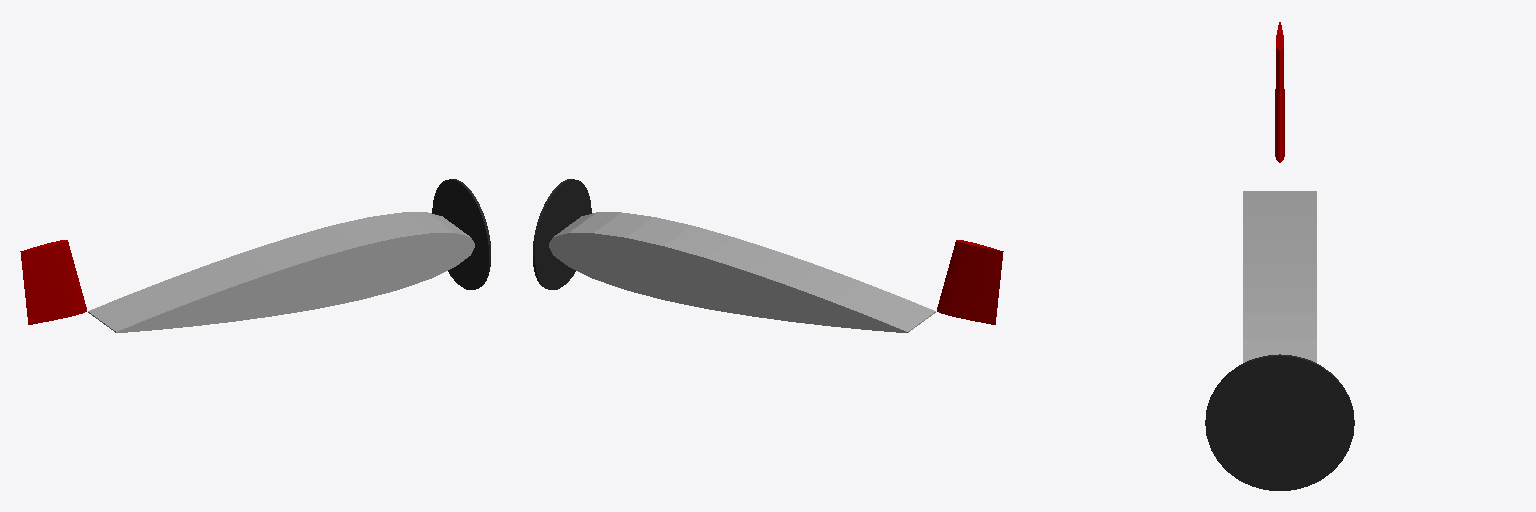
URDF robot description (drone_param):
<?xml version='1.0' encoding='utf-8'?>
<robot name="drone_param">
  <material name="grey">
    <color rgba="0.7 0.7 0.7 1" />
    </material>
  <material name="red">
    <color rgba="0.7 0 0 1" />
    </material>
  <material name="black">
    <color rgba="0.2 0.2 0.2 1" />
    </material>
  <link name="root_link">
    <inertial>
      <origin xyz="0 0 0" rpy="0 0 0" />
      <mass value="0" />
      <inertia ixx="0" ixy="0" ixz="0" iyy="0" iyz="0" izz="0" />
      </inertial>
    </link>
  <link name="fuselage">
    <inertial>
      <origin xyz="-0.275 0 -0.04" rpy="0 0 0" />
      <mass value="0.502478" />
      <inertia ixx="0.0136643" ixy="0" ixz="0" iyy="0.0136398" iyz="0" izz="0.000527007" />
      </inertial>
    <collision name="fuselage_collision_0">
      <origin xyz="-0.365 0 0.00245565348607" rpy="-1.5898372930676048 6.123233995736766e-17 -1.5707963267948968" />
      <geometry>
        <box size="0.025 0.0261920094864 0.1825" />
        </geometry>
      </collision>
    <visual name="fuselage_visual_0">
      <origin xyz="0 0 0" rpy="0 0 0" />
      <geometry>
        <mesh filename="package://meshes/fuselage_only.stl" scale="0.000973482 0.001 0.001" />
        </geometry>
      <material name="grey" />
      </visual>
    </link>
  <joint name="fixed_joint_base_fuselage" type="fixed">
    <parent link="root_link" />
    <child link="fuselage" />
    <origin xyz="0 0 0" rpy="3.141592653589793 0 0" />
    </joint>
  <joint name="fixed_joint_aero_frame_fuselage" type="fixed">
    <parent link="fuselage" />
    <child link="aero_frame_fuselage" />
    <origin xyz="-0.275 0 -0.03" rpy="0 3.141592653589793 0" />
    </joint>
  <link name="aero_frame_fuselage">
    <inertial>
      <origin xyz="0 0 0" rpy="0 0 0" />
      <mass value="0" />
      <inertia ixx="0" ixy="0" ixz="0" iyy="0" iyz="0" izz="0" />
      </inertial>
    </link>
  <joint name="fixed_joint_prop_frame_fuselage_0" type="fixed">
    <parent link="fuselage" />
    <child link="prop_frame_fuselage_0" />
    <origin xyz="0 0 0" rpy="3.141592653589793 -1.5707963267948966 0" />
    </joint>
  <link name="prop_frame_fuselage_0">
    <inertial>
      <origin xyz="0 0 0" rpy="0 0 0" />
      <mass value="0.0314159" />
      <inertia ixx="6.28711e-05" ixy="0" ixz="0" iyy="6.28711e-05" iyz="0" izz="0.000125664" />
      </inertial>
    <visual name="prop_frame_fuselage_0_visual_0">
      <origin xyz="0 0 0" rpy="0 0 0" />
      <geometry>
        <cylinder radius="0.1" length="0.005" />
        </geometry>
      <material name="black" />
      </visual>
    <collision name="prop_frame_collision">
      <origin xyz="0 0 0" rpy="0 0 0" />
      <geometry>
        <box size="0.2 0.2 0.02" />
        </geometry>
      </collision>
    </link>
  <joint name="fixed_joint_right_wing" type="fixed">
    <parent link="fuselage" />
    <child link="fuselage_right_0" />
    <origin xyz="-0.275 0.05 -0.03" rpy="0 0 3.141592653589793" />
    </joint>
  <link name="fuselage_right_0">
    <inertial>
      <origin xyz="0 0 0" rpy="0 0 0" />
      <mass value="0.1" />
      <inertia ixx="3.22642e-06" ixy="0" ixz="0" iyy="3.22642e-06" iyz="0" izz="3.22642e-06" />
      </inertial>
    </link>
  <link name="fuselage_right_1">
    <inertial>
      <origin xyz="0 0 0" rpy="0 0 0" />
      <mass value="0.1" />
      <inertia ixx="3.22642e-06" ixy="0" ixz="0" iyy="3.22642e-06" iyz="0" izz="3.22642e-06" />
      </inertial>
    </link>
  <joint name="joint_0_sweep_right_wing" type="revolute">
    <parent link="fuselage_right_0" />
    <child link="fuselage_right_1" />
    <origin xyz="0 0 0" rpy="0 0 0" />
    <axis xyz="0 0 1" />
    <limit lower="-0.35" upper="0.35" effort="2.5" velocity="3.665191429" />
    <dynamics damping="0.2" friction="0.05" />
    </joint>
  <joint name="joint_1_twist_right_wing" type="revolute">
    <parent link="fuselage_right_1" />
    <child link="right_wing" />
    <origin xyz="0 -0.05 0" rpy="0 0 0" />
    <axis xyz="0 1 0" />
    <limit lower="-0.35" upper="0.35" effort="1.5" velocity="3.665191429" />
    <dynamics damping="0.2" friction="0.05" />
    </joint>
  <link name="right_wing">
    <inertial>
      <origin xyz="0 0 0" rpy="0 0 0" />
      <mass value="0" />
      <inertia ixx="0" ixy="0" ixz="0" iyy="0" iyz="0" izz="0" />
      </inertial>
    <visual name="right_wing_visual">
      <origin xyz="0 0 0" rpy="0 0 0" />
      <geometry>
        <mesh filename="package://meshes/wing0009.stl" scale="0.2 0.700041 0.2" />
        </geometry>
      <material name="red" />
      </visual>
    </link>
  <joint name="fixed_joint_right_wing_prop" type="fixed">
    <parent link="right_wing" />
    <child link="right_wing_prop" />
    <origin xyz="0 -0.025 0" rpy="0 0 0" />
    </joint>
  <link name="right_wing_prop">
    <inertial>
      <origin xyz="0.034 0 0" rpy="0 0 0" />
      <mass value="0.00423909" />
      <inertia ixx="9.00806e-06" ixy="0" ixz="0" iyy="5.98271e-07" iyz="0" izz="8.54656e-06" />
      </inertial>
    <collision name="right_wing_prop_collision">
      <origin xyz="0.05 0 -0.000421042" rpy="1.570796327 -1.558922022 0" />
      <geometry>
        <box size="0.017962225 0.2 0.05" />
        </geometry>
      </collision>
    </link>
  <joint name="fixed_joint_aero_frame_right_wing_prop" type="fixed">
    <parent link="right_wing_prop" />
    <child link="aero_frame_right_wing_prop" />
    <origin xyz="0.034 0 0" rpy="3.141592654 0 0" />
    </joint>
  <link name="aero_frame_right_wing_prop">
    <inertial>
      <origin xyz="0 0 0" rpy="0 0 0" />
      <mass value="0" />
      <inertia ixx="0" ixy="0" ixz="0" iyy="0" iyz="0" izz="0" />
      </inertial>
    </link>
  <joint name="fixed_joint_right_wing_free" type="fixed">
    <parent link="right_wing" />
    <child link="right_wing_free" />
    <origin xyz="0 -0.375 0" rpy="0 0 0" />
    </joint>
  <link name="right_wing_free">
    <inertial>
      <origin xyz="0.034 0 0" rpy="0 0 0" />
      <mass value="0.0551081" />
      <inertia ixx="0.00127437" ixy="0" ixz="0" iyy="0.00116505" iyz="0" izz="0.000111105" />
      </inertial>
    <collision name="right_wing_free_collision">
      <origin xyz="0.05 0 -0.000421042" rpy="1.570796327 -1.558922022 0" />
      <geometry>
        <box size="0.017962225 0.2 0.65" />
        </geometry>
      </collision>
    </link>
  <joint name="fixed_joint_aero_frame_right_wing_free" type="fixed">
    <parent link="right_wing_free" />
    <child link="aero_frame_right_wing_free" />
    <origin xyz="0.034 0 0" rpy="3.141592654 0 0" />
    </joint>
  <link name="aero_frame_right_wing_free">
    <inertial>
      <origin xyz="0 0 0" rpy="0 0 0" />
      <mass value="0" />
      <inertia ixx="0" ixy="0" ixz="0" iyy="0" iyz="0" izz="0" />
      </inertial>
    </link>
  <joint name="fixed_joint_left_wing" type="fixed">
    <parent link="fuselage" />
    <child link="fuselage_left_0" />
    <origin xyz="-0.275 -0.05 -0.03" rpy="-0 0 3.141592653589793" />
    </joint>
  <link name="fuselage_left_0">
    <inertial>
      <origin xyz="0 0 0" rpy="0 0 0" />
      <mass value="0.1" />
      <inertia ixx="3.22642e-06" ixy="0" ixz="0" iyy="3.22642e-06" iyz="0" izz="3.22642e-06" />
      </inertial>
    </link>
  <link name="fuselage_left_1">
    <inertial>
      <origin xyz="0 0 0" rpy="0 0 0" />
      <mass value="0.1" />
      <inertia ixx="3.22642e-06" ixy="0" ixz="0" iyy="3.22642e-06" iyz="0" izz="3.22642e-06" />
      </inertial>
    </link>
  <joint name="joint_0_sweep_left_wing" type="revolute">
    <parent link="fuselage_left_0" />
    <child link="fuselage_left_1" />
    <origin xyz="0 0 0" rpy="0 0 0" />
    <axis xyz="0 0 1" />
    <limit lower="-0.35" upper="0.35" effort="2.5" velocity="3.665191429" />
    <dynamics damping="0.2" friction="0.05" />
    </joint>
  <joint name="joint_1_twist_left_wing" type="revolute">
    <parent link="fuselage_left_1" />
    <child link="left_wing" />
    <origin xyz="0 0.05 0" rpy="0 0 0" />
    <axis xyz="0 1 0" />
    <limit lower="-0.35" upper="0.35" effort="1.5" velocity="3.665191429" />
    <dynamics damping="0.2" friction="0.05" />
    </joint>
  <link name="left_wing">
    <inertial>
      <origin xyz="0 0 0" rpy="0 0 0" />
      <mass value="0" />
      <inertia ixx="0" ixy="0" ixz="0" iyy="0" iyz="0" izz="0" />
      </inertial>
    <visual name="left_wing_visual">
      <origin xyz="0 0 0" rpy="3.141592654 0 0" />
      <geometry>
        <mesh filename="package://meshes/wing0009.stl" scale="0.2 0.700041 0.2" />
        </geometry>
      <material name="red" />
      </visual>
    </link>
  <joint name="fixed_joint_left_wing_prop" type="fixed">
    <parent link="left_wing" />
    <child link="left_wing_prop" />
    <origin xyz="0 0.025 0" rpy="0 0 0" />
    </joint>
  <link name="left_wing_prop">
    <inertial>
      <origin xyz="0.034 0 0" rpy="0 0 0" />
      <mass value="0.00423909" />
      <inertia ixx="9.00806e-06" ixy="0" ixz="0" iyy="5.98271e-07" iyz="0" izz="8.54656e-06" />
      </inertial>
    <collision name="left_wing_prop_collision">
      <origin xyz="0.05 0 -0.000421042" rpy="1.570796327 -1.558922022 0" />
      <geometry>
        <box size="0.017962225 0.2 0.05" />
        </geometry>
      </collision>
    </link>
  <joint name="fixed_joint_aero_frame_left_wing_prop" type="fixed">
    <parent link="left_wing_prop" />
    <child link="aero_frame_left_wing_prop" />
    <origin xyz="0.034 0 0" rpy="3.141592654 0 0" />
    </joint>
  <link name="aero_frame_left_wing_prop">
    <inertial>
      <origin xyz="0 0 0" rpy="0 0 0" />
      <mass value="0" />
      <inertia ixx="0" ixy="0" ixz="0" iyy="0" iyz="0" izz="0" />
      </inertial>
    </link>
  <joint name="fixed_joint_left_wing_free" type="fixed">
    <parent link="left_wing" />
    <child link="left_wing_free" />
    <origin xyz="0 0.375 0" rpy="0 0 0" />
    </joint>
  <link name="left_wing_free">
    <inertial>
      <origin xyz="0.034 0 0" rpy="0 0 0" />
      <mass value="0.0551081" />
      <inertia ixx="0.00127437" ixy="0" ixz="0" iyy="0.00116505" iyz="0" izz="0.000111105" />
      </inertial>
    <collision name="left_wing_free_collision">
      <origin xyz="0.05 0 -0.000421042" rpy="1.570796327 -1.558922022 0" />
      <geometry>
        <box size="0.017962225 0.2 0.65" />
        </geometry>
      </collision>
    </link>
  <joint name="fixed_joint_aero_frame_left_wing_free" type="fixed">
    <parent link="left_wing_free" />
    <child link="aero_frame_left_wing_free" />
    <origin xyz="0.034 0 0" rpy="3.141592654 0 0" />
    </joint>
  <link name="aero_frame_left_wing_free">
    <inertial>
      <origin xyz="0 0 0" rpy="0 0 0" />
      <mass value="0" />
      <inertia ixx="0" ixy="0" ixz="0" iyy="0" iyz="0" izz="0" />
      </inertial>
    </link>
  <joint name="elevator_pitch_joint" type="revolute">
    <parent link="fuselage" />
    <child link="elevator_hinge" />
    <origin xyz="-0.76 0 0" rpy="0 0 0" />
    <axis xyz="0 1 0" />
    <limit lower="-0.35" upper="0.35" effort="1.0" velocity="3.665191429" />
    <dynamics damping="0.2" friction="0.05" />
    </joint>
  <link name="elevator_hinge">
    <inertial>
      <origin xyz="0 0 0" rpy="0 0 0" />
      <mass value="0" />
      <inertia ixx="0" ixy="0" ixz="0" iyy="0" iyz="0" izz="0" />
      </inertial>
    <visual>
      <origin xyz="0 0 0" rpy="0 0 0" />
      <geometry>
        <mesh filename="package://meshes/elevator.stl" scale="0.0007 0.0012005 0.00099999" />
        </geometry>
      <material name="grey" />
      </visual>
    </link>
  <joint name="fixed_joint_elevator_left" type="fixed">
    <parent link="elevator_hinge" />
    <child link="elevator_left" />
    <origin xyz="0 0.09 0" rpy="0 0 0" />
    </joint>
  <link name="elevator_left">
    <inertial>
      <origin xyz="0.0434 0 0" rpy="0 0 0" />
      <mass value="0.0250102" />
      <inertia ixx="6.50266e-05" ixy="0" ixz="0" iyy="4.07464e-05" iyz="0" izz="2.47399e-05" />
      </inertial>
    <collision>
      <origin xyz="-0.035 0 -0.0226291863" rpy="1.5763749568 -1.5318707859 3.1359944429" />
      <geometry>
        <box size="0.0135567616 0.14 0.18" />
        </geometry>
      </collision>
    </link>
  <joint name="fixed_joint_aero_frame_elevator_left" type="fixed">
    <parent link="elevator_left" />
    <child link="aero_frame_elevator_left" />
    <origin xyz="-0.0434 0 0" rpy="0 3.141592654 0" />
    </joint>
  <link name="aero_frame_elevator_left">
    <inertial>
      <origin xyz="0 0 0" rpy="0 0 0" />
      <mass value="0" />
      <inertia ixx="0" ixy="0" ixz="0" iyy="0" iyz="0" izz="0" />
      </inertial>
    </link>
  <joint name="fixed_joint_elevator_right" type="fixed">
    <parent link="elevator_hinge" />
    <child link="elevator_right" />
    <origin xyz="0 -0.09 0" rpy="0 0 0" />
    </joint>
  <link name="elevator_right">
    <inertial>
      <origin xyz="0.0434 0 0" rpy="0 0 0" />
      <mass value="0.0250102" />
      <inertia ixx="6.50266e-05" ixy="0" ixz="0" iyy="4.07464e-05" iyz="0" izz="2.47399e-05" />
      </inertial>
    <collision>
      <origin xyz="-0.035 0 -0.0226291863" rpy="1.5763749568 -1.5318707859 3.1359944429" />
      <geometry>
        <box size="0.0135567616 0.14 0.18" />
        </geometry>
      </collision>
    </link>
  <joint name="fixed_joint_aero_frame_elevator_right" type="fixed">
    <parent link="elevator_right" />
    <child link="aero_frame_elevator_right" />
    <origin xyz="-0.0434 0 0" rpy="0 3.141592654 0" />
    </joint>
  <link name="aero_frame_elevator_right">
    <inertial>
      <origin xyz="0 0 0" rpy="0 0 0" />
      <mass value="0" />
      <inertia ixx="0" ixy="0" ixz="0" iyy="0" iyz="0" izz="0" />
      </inertial>
    </link>
  <joint name="rudder_yaw_joint" type="revolute">
    <parent link="elevator_hinge" />
    <child link="rudder" />
    <origin xyz="0 0 0" rpy="0 0 0" />
    <axis xyz="0 0 1" />
    <limit lower="-0.35" upper="0.35" effort="1.0" velocity="3.665191429" />
    <dynamics damping="0.2" friction="0.05" />
    </joint>
  <link name="rudder">
    <inertial>
      <origin xyz="-0.0372 0 -0.08" rpy="0 0 0" />
      <mass value="0.0169188" />
      <inertia ixx="3.38377e-05" ixy="0" ixz="0" iyy="2.18116e-05" iyz="0" izz="1.2337e-05" />
      </inertial>
    <collision name="rudder_collision_0">
      <origin xyz="-0.03 0 -0.104994470816" rpy="0.10626955814138643 0.008780081131392076 1.5717328981686811" />
      <geometry>
        <box size="0.0135567616 0.12 0.16" />
        </geometry>
      </collision>
    <visual name="rudder_visual_0">
      <origin xyz="0 0 0" rpy="0 0 0" />
      <geometry>
        <mesh filename="package://meshes/rudder.stl" scale="0.0008 0.00100567 0.000978154" />
        </geometry>
      <material name="red" />
      </visual>
    </link>
  <joint name="fixed_joint_aero_frame_rudder" type="fixed">
    <parent link="rudder" />
    <child link="aero_frame_rudder" />
    <origin xyz="-0.0372 0 -0.08" rpy="0 3.141592653589793 0" />
    </joint>
  <link name="aero_frame_rudder">
    <inertial>
      <origin xyz="0 0 0" rpy="0 0 0" />
      <mass value="0" />
      <inertia ixx="0" ixy="0" ixz="0" iyy="0" iyz="0" izz="0" />
      </inertial>
    </link>
  </robot>

--- Facts derived from the render (not from the file) ---
3 views of the same robot in one strip: view 1: azimuth 30°, elevation 25°; view 2: azimuth 150°, elevation 25°; view 3: azimuth 270°, elevation 25° (orthographic).
Robot: drone_param — 25 links, 24 joints (6 revolute, 18 fixed); root link root_link; default pose: all joints at 0.
Visible links, largest first — view 1: fuselage, rudder, prop_frame_fuselage_0; view 2: fuselage, rudder, prop_frame_fuselage_0; view 3: prop_frame_fuselage_0, fuselage, rudder.
Link boxes in pixels (x1=…): fuselage: x1=88, y1=212, x2=474, y2=332; rudder: x1=20, y1=240, x2=86, y2=324; prop_frame_fuselage_0: x1=432, y1=179, x2=490, y2=289; fuselage: x1=549, y1=212, x2=935, y2=332; rudder: x1=937, y1=240, x2=1003, y2=324; prop_frame_fuselage_0: x1=533, y1=179, x2=591, y2=289; prop_frame_fuselage_0: x1=1205, y1=354, x2=1354, y2=490; fuselage: x1=1243, y1=191, x2=1316, y2=362; rudder: x1=1275, y1=22, x2=1284, y2=162.
Size in the robot's own frame: 0.8985 by 0.2 by 0.2761 metres.
2 mesh visuals loaded from 4 distinct referenced files (2 binary STL); not drawn: 3 (reference not matched to a file when rendering).